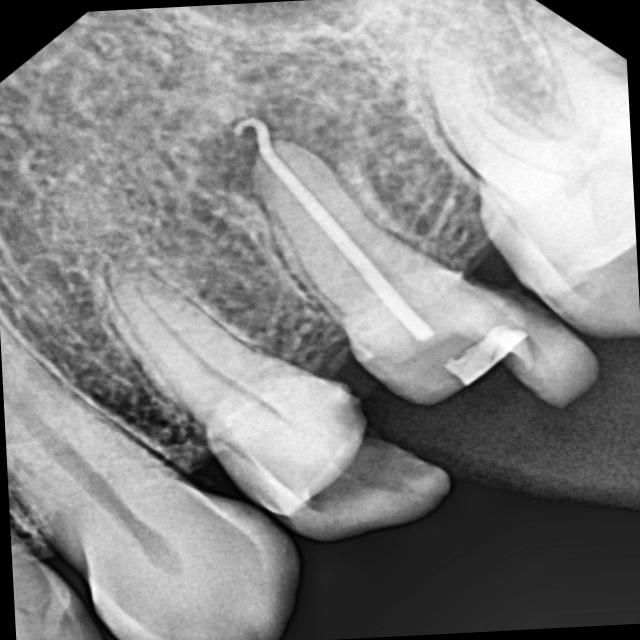Caries: (144, 369, 487, 563)
Normal: (2, 286, 310, 640), (383, 0, 640, 360)
RCT: (194, 97, 624, 444)
